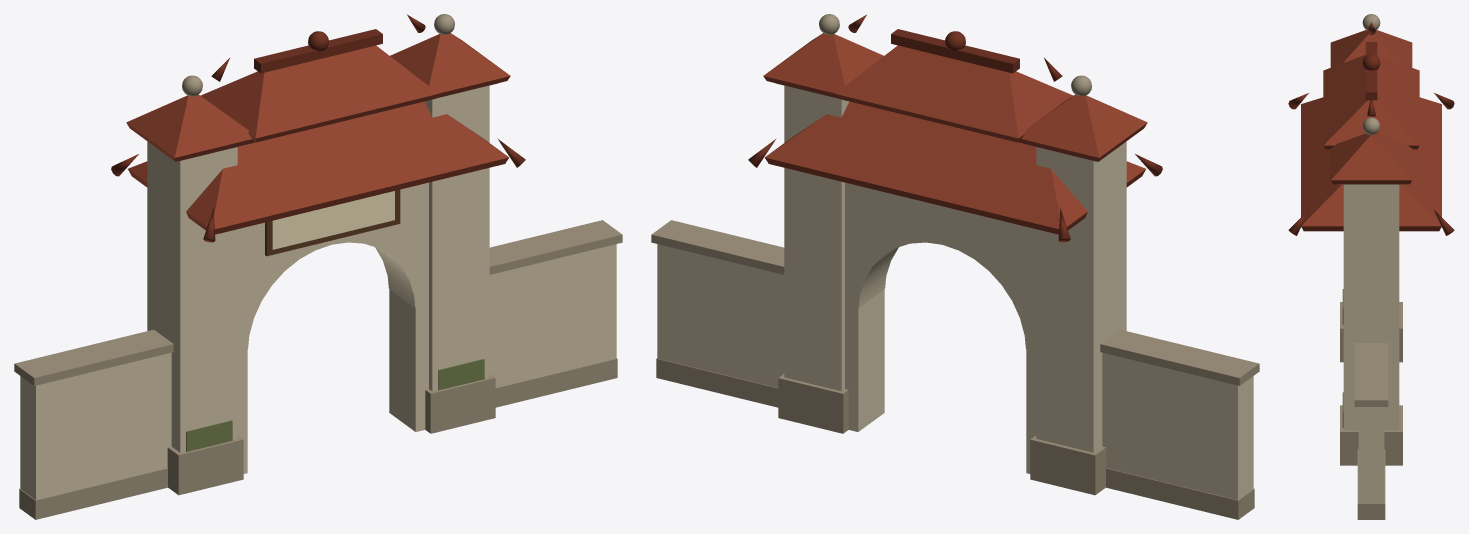
The model's file is gate.glb.
3 views of the same model, side by side, from view 1: azimuth 30°, elevation 25°; view 2: azimuth 150°, elevation 25°; view 3: azimuth 270°, elevation 25° (orthographic). The views are drawn at different scales.
Parts seen in each view (by area): view 1: Main, Plaque; view 2: Main; view 3: Main.
Boxes of the visible parts, <box> form: Main: <box>14,14,622,519</box>; Plaque: <box>272,191,394,249</box>; Main: <box>651,14,1259,519</box>; Main: <box>1288,14,1454,519</box>.
Bounding box in the file's own units: 7.7 × 5.14 × 2.24.
